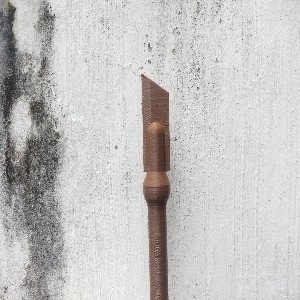cutter: (140, 72, 172, 300)
